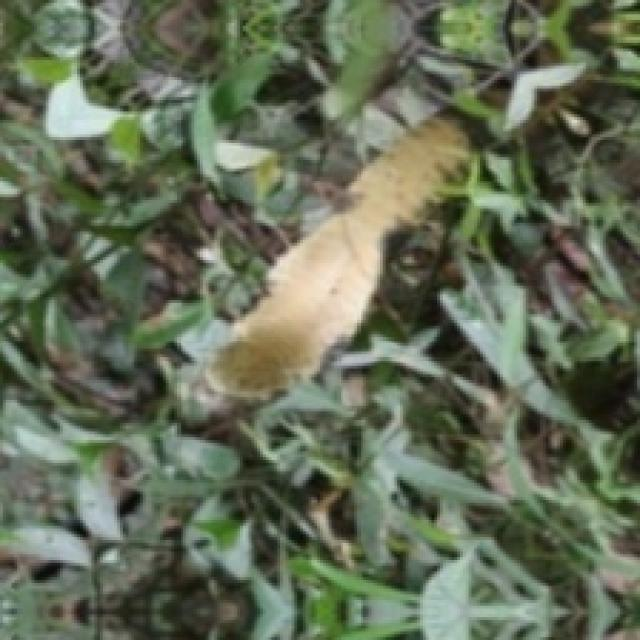king cobra: (206, 114, 466, 397), (209, 117, 466, 397)
